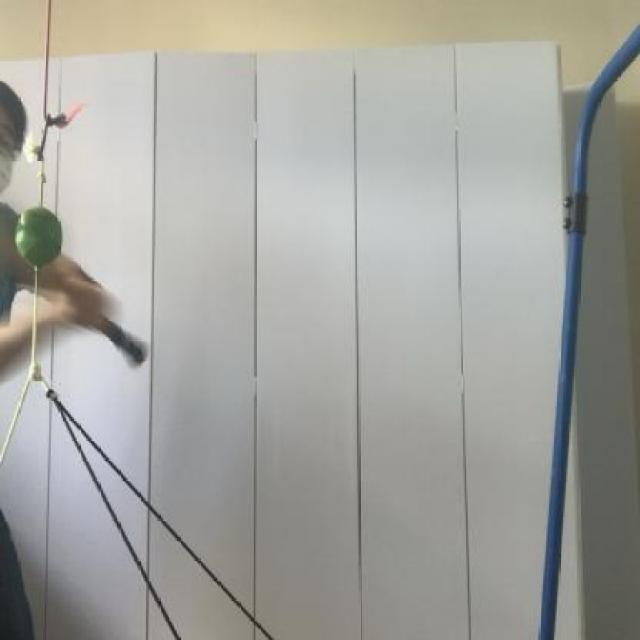baseball: (12, 202, 68, 270)
